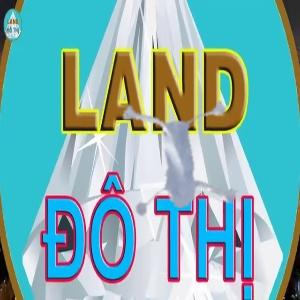drone: (67, 58, 279, 270)
